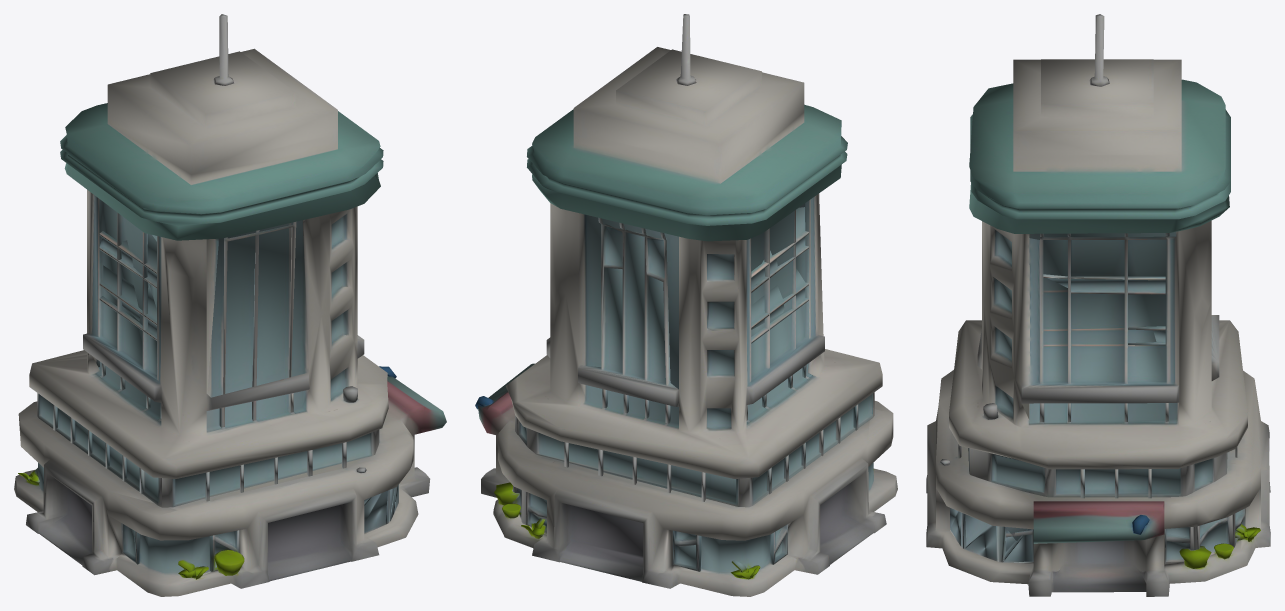
File: building-landmark.glb
The picture shows the model from 3 angles, left to right: view 1: azimuth 30°, elevation 25°; view 2: azimuth 150°, elevation 25°; view 3: azimuth 270°, elevation 25°; orthographic projection.
Parts seen in each view (by area): view 1: tripo_node_kodyurd-model-4_____________________; view 2: tripo_node_kodyurd-model-4_____________________; view 3: tripo_node_kodyurd-model-4_____________________.
Part boxes in pixels (left/top/right/bottom): tripo_node_kodyurd-model-4_____________________: left=14, top=14, right=446, bottom=596; tripo_node_kodyurd-model-4_____________________: left=475, top=14, right=897, bottom=596; tripo_node_kodyurd-model-4_____________________: left=926, top=14, right=1270, bottom=596.
Size of the model in its own units: 0.752 by 0.998 by 0.627.
Materials: 1 (1 with a texture image).
